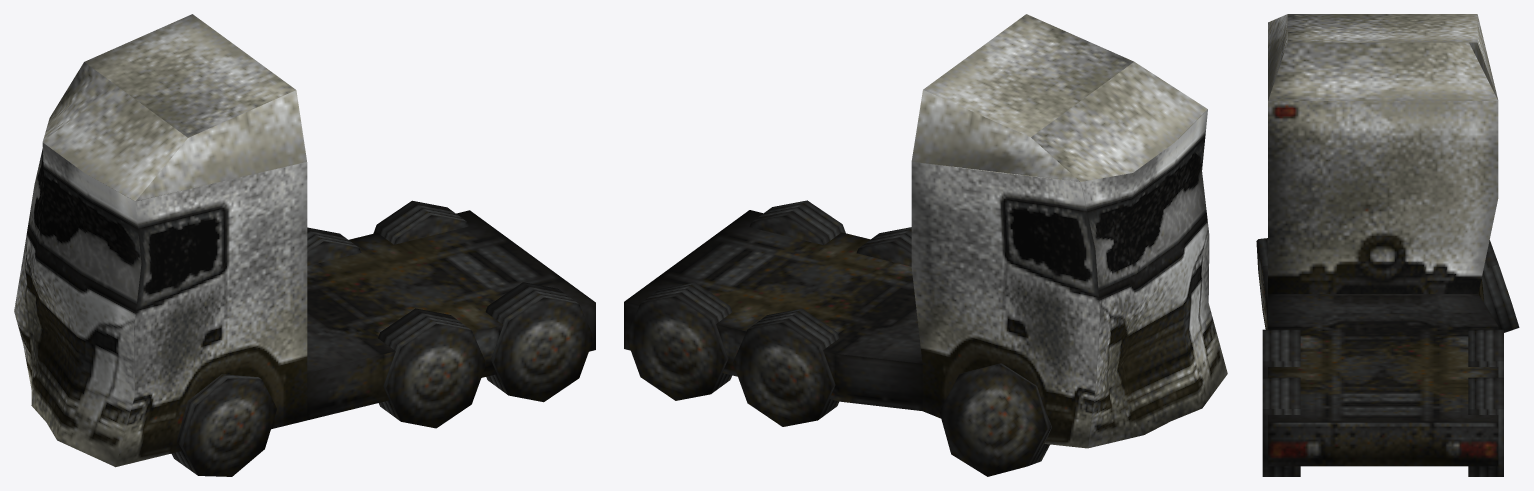
Rendered from lorryfront1_1.fbx.
3 views of the same model, side by side, from view 1: azimuth 30°, elevation 25°; view 2: azimuth 150°, elevation 25°; view 3: azimuth 270°, elevation 25° (orthographic). The views are drawn at different scales.
Parts seen in each view (by area): view 1: lorryfront1_1; view 2: lorryfront1_1; view 3: lorryfront1_1.
Part boxes in pixels (x1=…): lorryfront1_1: x1=14, y1=14, x2=595, y2=476; lorryfront1_1: x1=624, y1=14, x2=1227, y2=476; lorryfront1_1: x1=1256, y1=14, x2=1519, y2=476.
Size of the model in its own units: 551 by 277 by 384.
1 material, 1 textured.
